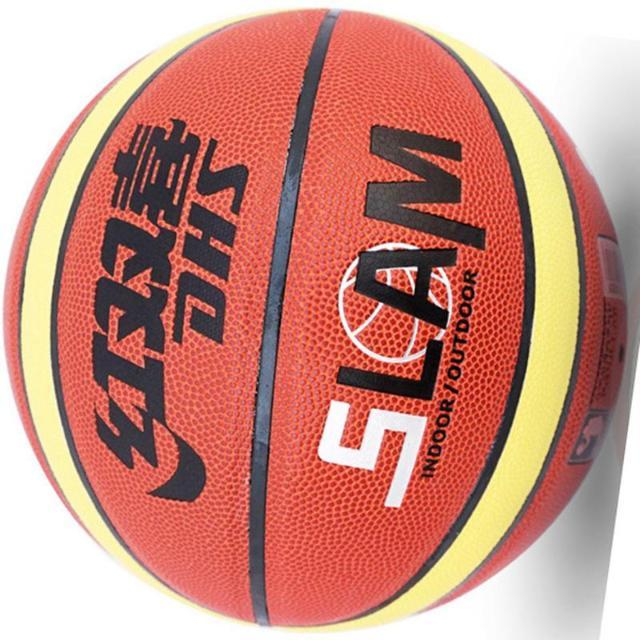basketball: (4, 10, 626, 628)
